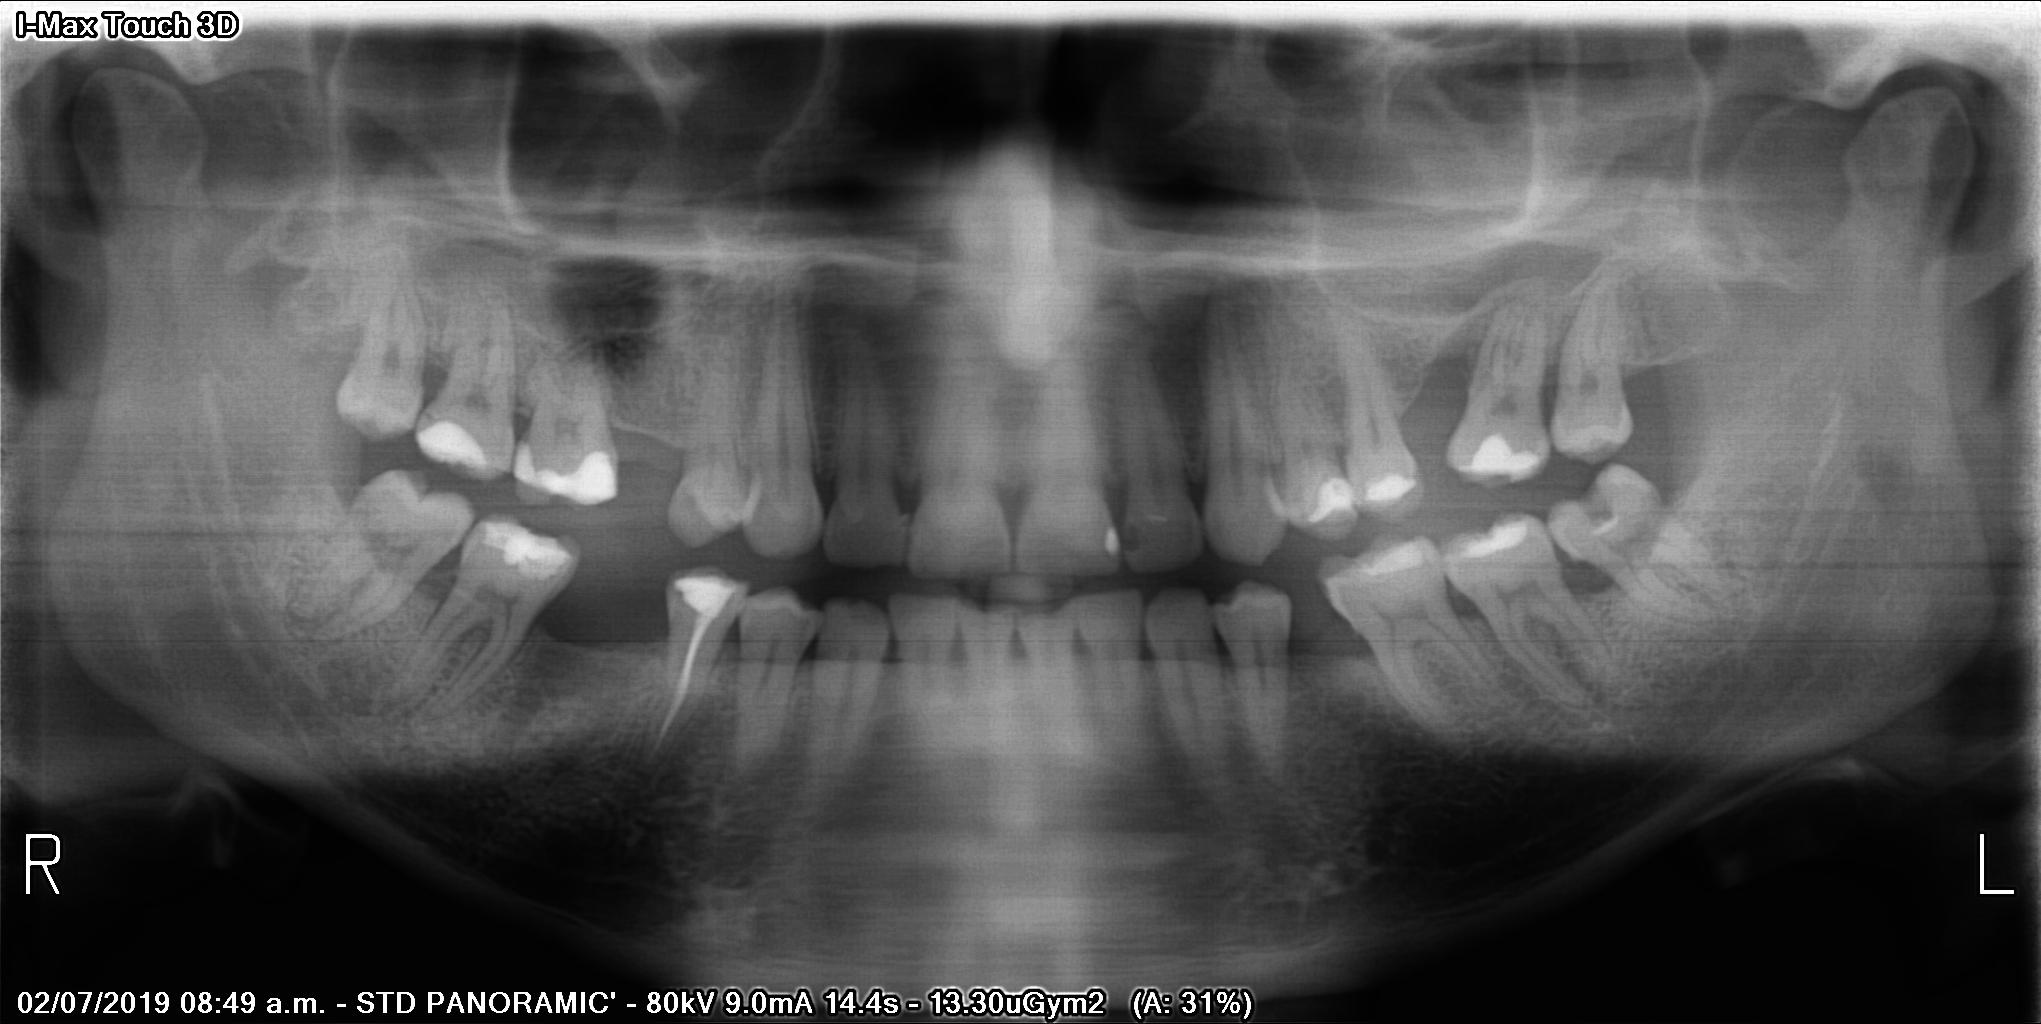Çürük: (474, 512, 597, 600), (509, 436, 627, 508), (1448, 427, 1546, 488), (409, 411, 495, 478), (672, 566, 736, 633), (1455, 512, 1532, 566), (1301, 473, 1358, 532), (1366, 457, 1419, 519), (1369, 538, 1435, 575), (1106, 525, 1119, 564)
Çürük Bölgesi: (1570, 488, 1628, 528), (1120, 519, 1148, 554)
